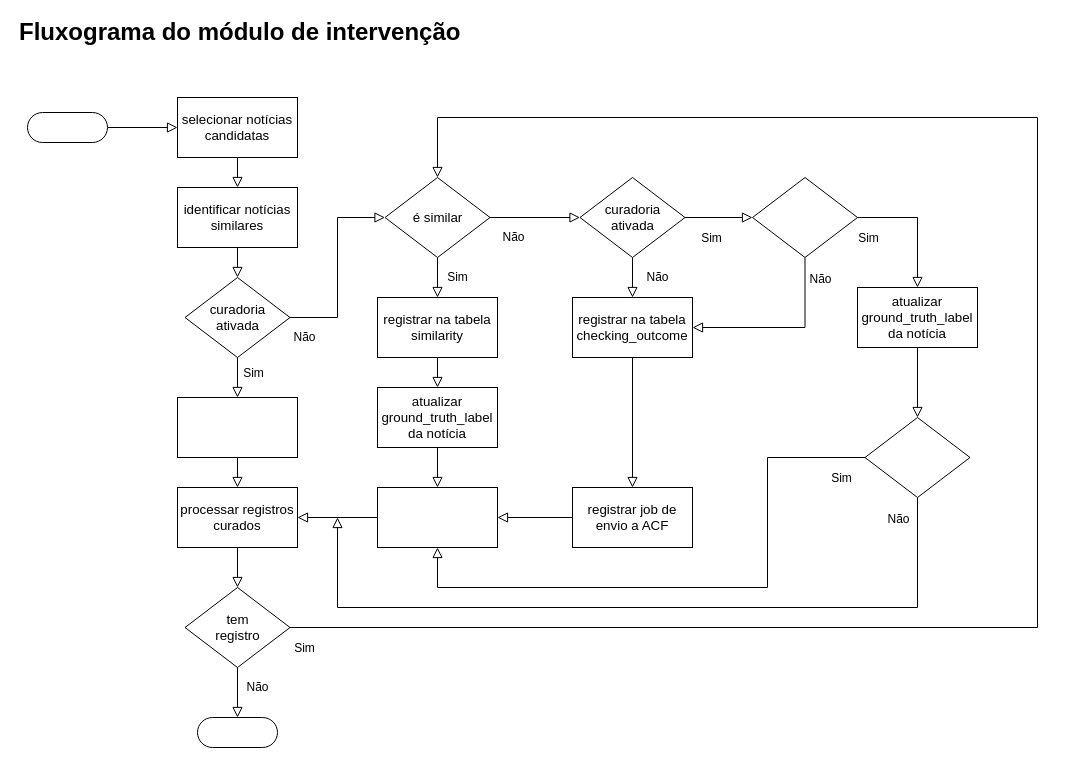
The diagram is 1065 pixels wide and 765 high, and some of its shapes have lost their labels. Here are the shapes that lost their labels. From the top down, the centre of each, then its label:
At (x=67, y=127): "Início".
At (x=805, y=217): "rotulada".
At (x=237, y=427): "registrar na tabela de curadoria".
At (x=917, y=457): "é fake".
At (x=437, y=517): "registrar job de alerta na rede social".
At (x=237, y=732): "Fim".
